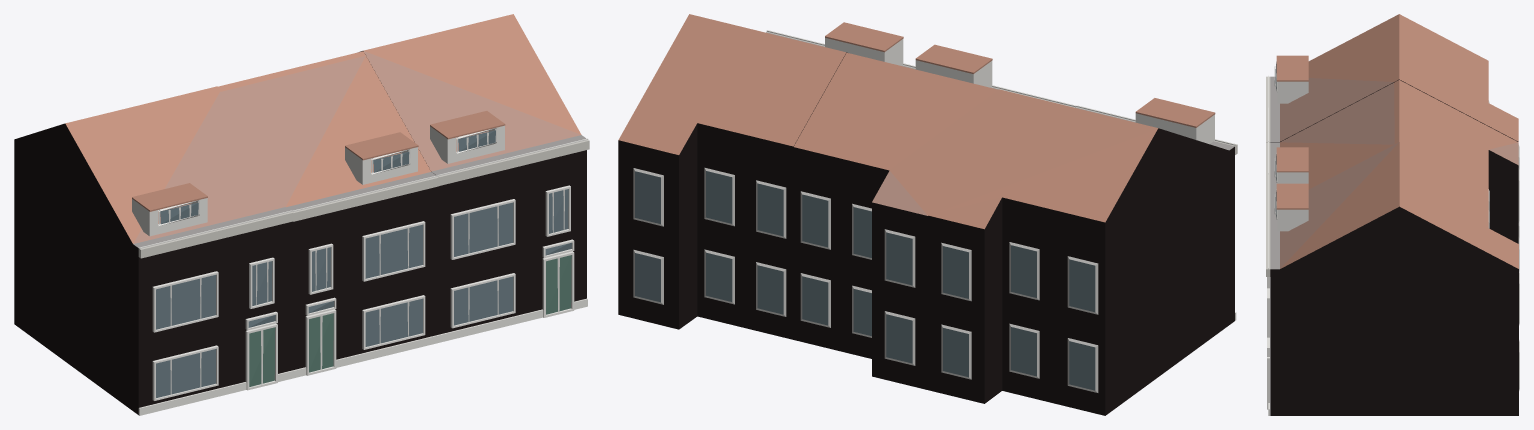
The model's file is chunk-face-meeuwenplein-41-45.lod2.glb.
3 renders of one model, left to right at view 1: azimuth 30°, elevation 25°; view 2: azimuth 150°, elevation 25°; view 3: azimuth 270°, elevation 25°, orthographic. The views are drawn at different scales.
Parts seen in each view (by area): view 1: lod2; view 2: lod2; view 3: lod2.
Part boxes in pixels (<box>): lod2: <box>14,14,589,415</box>; lod2: <box>618,14,1237,415</box>; lod2: <box>1266,14,1519,415</box>.
Size of the model in its own units: 18.9 by 9.59 by 10.54.
